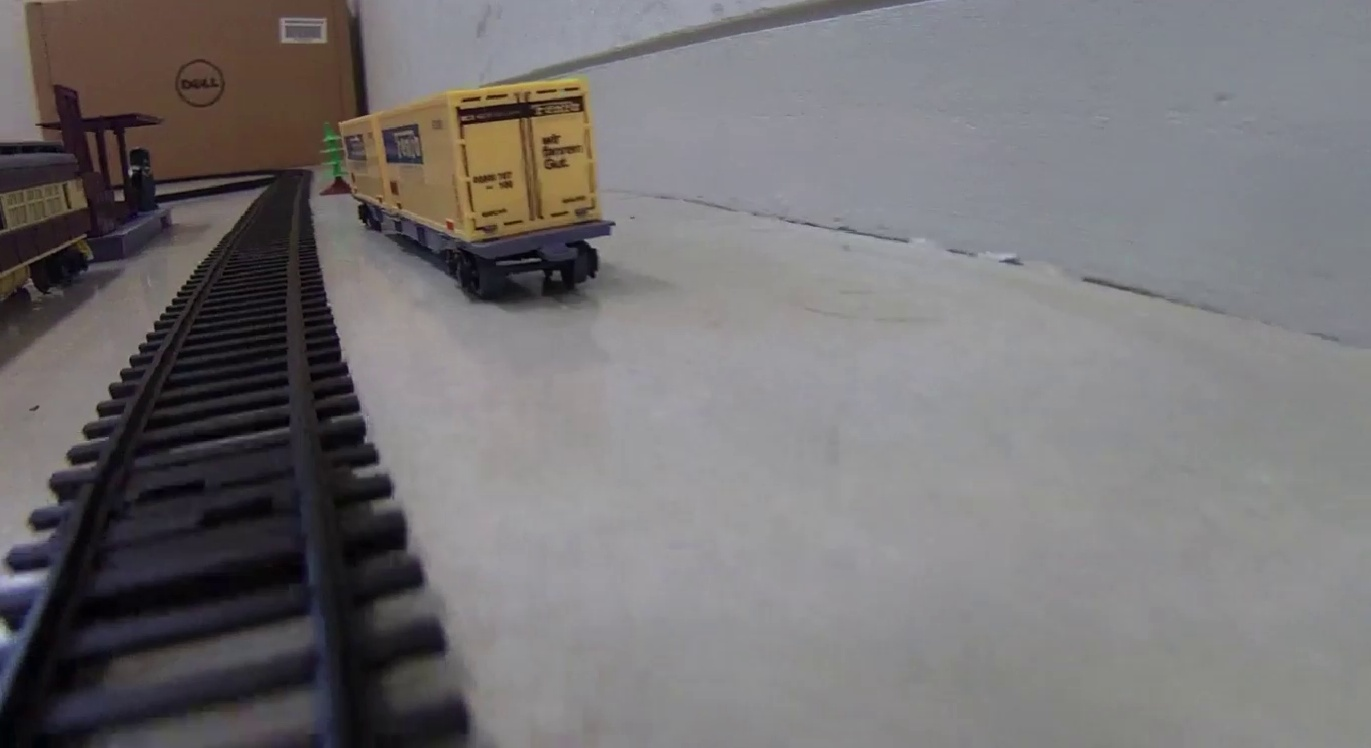tree: (317, 119, 340, 195)
